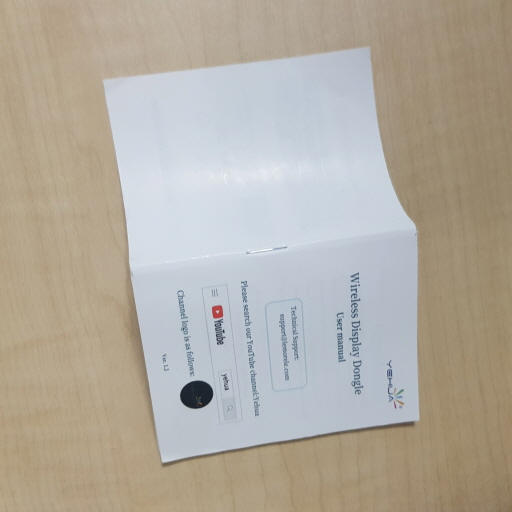Paper_0: (99, 46, 425, 458)
